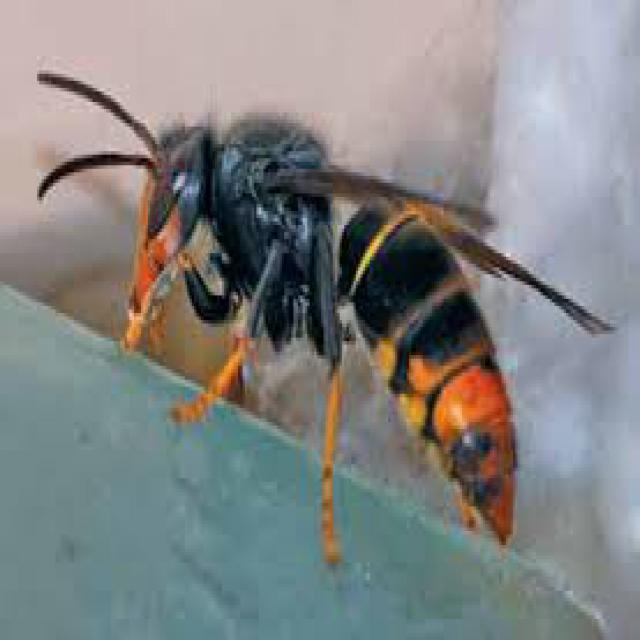Vespa Velutina: (34, 63, 622, 588)
